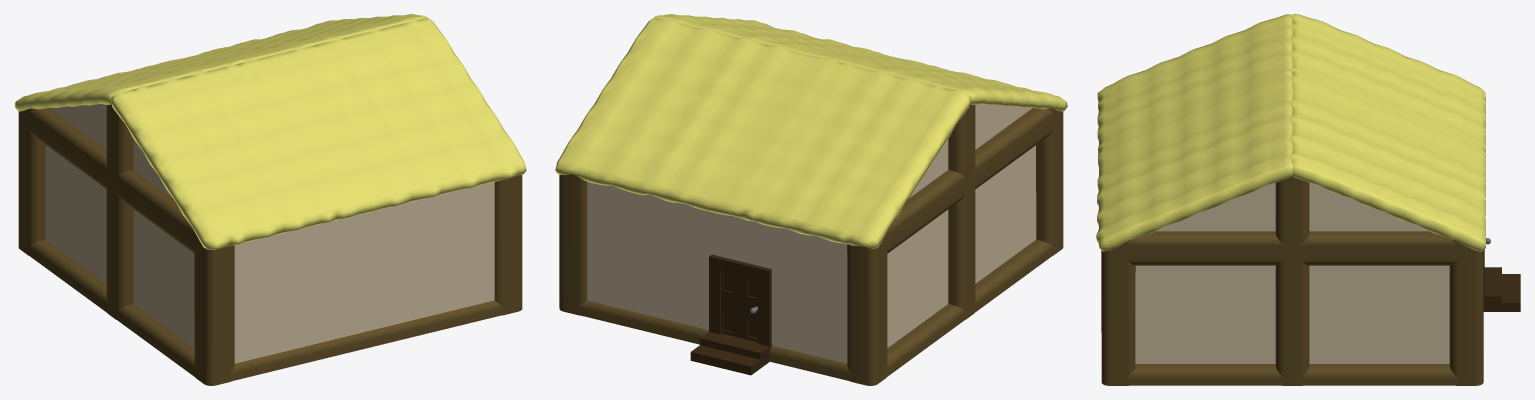
File: Warehouse.fbx
3 renders of one model, left to right at view 1: azimuth 30°, elevation 25°; view 2: azimuth 150°, elevation 25°; view 3: azimuth 270°, elevation 25°, orthographic.
Visible parts, largest first — view 1: pCube5, pCube1, pCube4, pCube6, pCube17, pCube11, pCube8, pCube15, pCube14, pCube12, pCube10; view 2: pCube6, pCube3, pCube4, pCube5, pCube17, pCube10, pCube8, pCube14, pCube9, pCube16, pCube11, pCube24 (+5 smaller); view 3: pCube2, pCube5, pCube6, pCube18, pCube13, pCube7, pCube12, pCube9, pCube22, pCube23.
Boxes of the visible parts, bbox=[...] form: pCube5: bbox=[111, 17, 526, 249]; pCube1: bbox=[234, 182, 494, 363]; pCube4: bbox=[45, 104, 194, 348]; pCube6: bbox=[14, 14, 427, 111]; pCube17: bbox=[23, 108, 201, 254]; pCube11: bbox=[194, 232, 234, 385]; pCube8: bbox=[106, 104, 133, 319]; pCube15: bbox=[230, 300, 503, 381]; pCube14: bbox=[25, 239, 198, 378]; pCube12: bbox=[494, 175, 522, 315]; pCube10: bbox=[18, 108, 45, 255]; pCube6: bbox=[555, 17, 971, 248]; pCube3: bbox=[587, 181, 847, 363]; pCube4: bbox=[887, 104, 1036, 347]; pCube5: bbox=[655, 14, 1067, 111]; pCube17: bbox=[880, 107, 1059, 254]; pCube10: bbox=[847, 232, 887, 385]; pCube8: bbox=[948, 104, 975, 319]; pCube14: bbox=[884, 239, 1056, 377]; pCube9: bbox=[559, 174, 587, 315]; pCube16: bbox=[578, 300, 851, 381]; pCube11: bbox=[1036, 108, 1063, 255]; pCube24: bbox=[721, 271, 757, 342]; pCube2: bbox=[1135, 182, 1449, 363]; pCube5: bbox=[1096, 14, 1292, 251]; pCube6: bbox=[1290, 14, 1485, 251]; pCube18: bbox=[1115, 231, 1469, 265]; pCube13: bbox=[1122, 364, 1463, 385]; pCube7: bbox=[1275, 176, 1309, 385]; pCube12: bbox=[1101, 239, 1135, 385]; pCube9: bbox=[1449, 240, 1483, 385]; pCube22: bbox=[1483, 267, 1501, 311]; pCube23: bbox=[1501, 274, 1520, 311].
Size of the model in its own units: 15.76 by 10.55 by 18.2.
